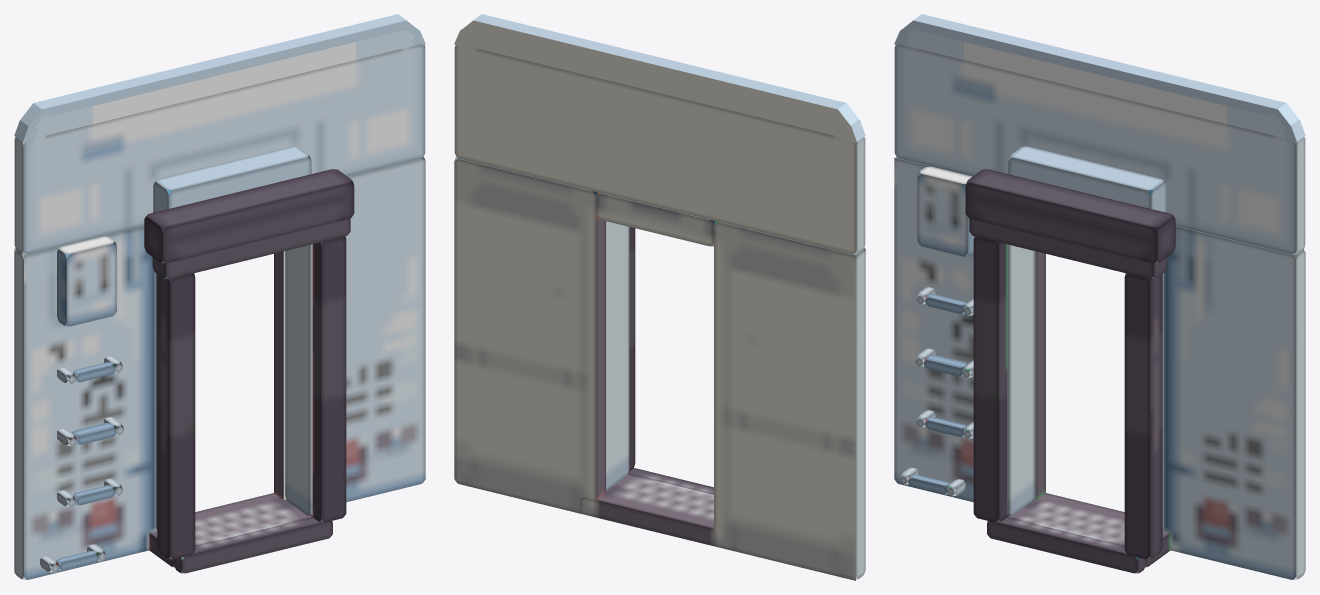
Rendered from end_face_original_rubber_25t_2.obj.
The picture shows the model from 3 angles, left to right: view 1: azimuth 30°, elevation 25°; view 2: azimuth 150°, elevation 25°; view 3: azimuth 330°, elevation 25°; orthographic projection.
Parts seen in each view (by area): view 1: cube_selection; view 2: cube_selection; view 3: cube_selection.
Boxes of the visible parts, x1,y1,x2,y2 form: cube_selection: [14, 14, 425, 579]; cube_selection: [454, 14, 865, 580]; cube_selection: [894, 14, 1305, 579].
Bounding box in the file's own units: 3 × 3.32 × 0.5594.
